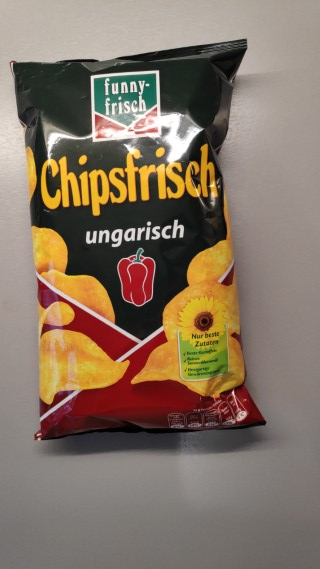chipsfrisch: (7, 35, 268, 443)
